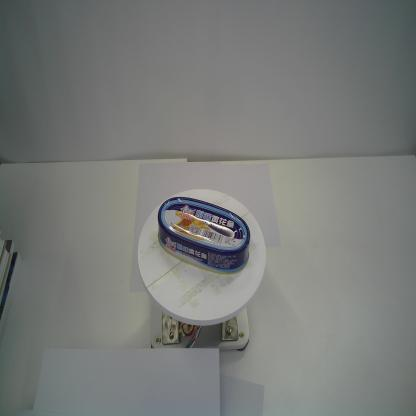Canned Food: (157, 195, 251, 276)
